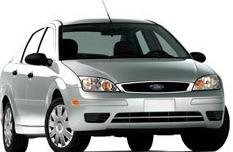front_view: (73, 66, 225, 135)
headlight: (71, 72, 127, 104)
side_glass: (17, 27, 69, 71)
